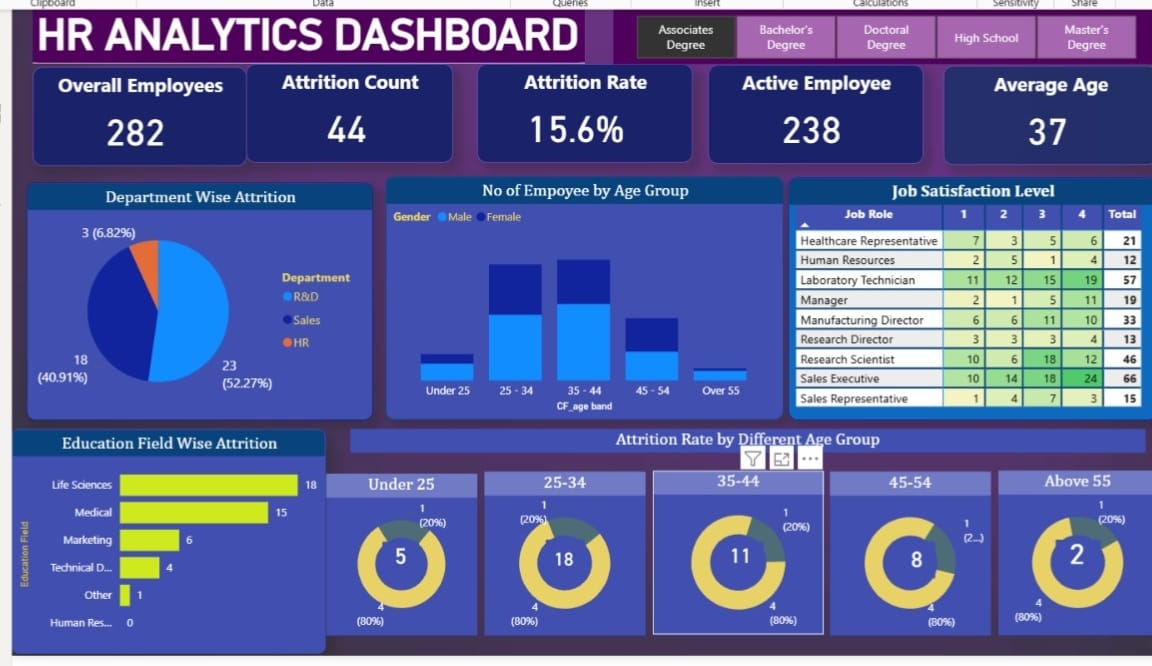

What the dashboard file says about the page in this screenshot:
{"tool":"powerbi","page":{"name":"Page 1","canvas":[1280,720],"ordinal":0},"visuals":[{"type":"advanceCardE03760C5AB684758B56AA29F9E6C257B","title":"Overall Employees","fields":{"mainMeasure":["Sum(HR data.Employee Count)"]},"box":[23.1,63.9,239.2,110.1],"z":0},{"type":"advanceCardE03760C5AB684758B56AA29F9E6C257B","title":"Attrition Count","fields":{"mainMeasure":["Sum(HR data.Attrition Count)"]},"box":[261.6,60.5,231.4,110.5],"z":1000},{"type":"advanceCardE03760C5AB684758B56AA29F9E6C257B","title":"Attrition Rate","fields":{"tooltipMeasures":["HR data.Attrition Rate"],"mainMeasure":["HR data.Attrition Rate"]},"box":[519.8,60.5,240.7,110.5],"z":2000},{"type":"advanceCardE03760C5AB684758B56AA29F9E6C257B","title":"Active Employee","fields":{"mainMeasure":["HR data.Active Empployees"]},"box":[777.9,61.6,240.7,110.5],"z":3000},{"type":"advanceCardE03760C5AB684758B56AA29F9E6C257B","title":"Average Age","fields":{"mainMeasure":["Avg(HR data.Age)"]},"box":[1040.7,62.8,239.5,110.5],"z":4000},{"type":"pieChart","title":"Department Wise Attrition ","fields":{"Category":["HR data.Department"],"Y":["Sum(HR data.Attrition Count)"]},"box":[16.2,192.5,387.5,265],"z":5000},{"type":"columnChart","title":" No of Empoyee by Age Group","fields":{"Category":["HR data.CF_age band"],"Y":["Sum(HR data.Employee Count)"],"Series":["HR data.Gender"]},"box":[417.5,186.2,445,271.2],"z":6000},{"type":"pivotTable","title":"Job Satisfaction Level","fields":{"Rows":["HR data.Job Role"],"Columns":["HR data.Job Satisfaction"],"Values":["Sum(HR data.Employee Count)"]},"box":[867.5,187.5,412.5,270],"z":7000},{"type":"barChart","title":"Education Field Wise Attrition","fields":{"Category":["HR data.Education Field"],"Y":["Sum(HR data.Attrition Count)"]},"box":[0,467.5,350.6,250.1],"z":8000},{"type":"textbox","title":"Attrition Rate by Different Age Group","box":[377.5,467.5,888.8,26.2],"z":9000},{"type":"donutChart","title":"Under 25","fields":{"Category":["HR data.Gender"],"Y":["Sum(HR data.Attrition Count)"],"Series":["HR data.CF_age band"]},"box":[350.6,517,168.6,179.8],"z":10000},{"type":"donutChart","title":"25-34","fields":{"Category":["HR data.Gender"],"Y":["Sum(HR data.Attrition Count)"],"Series":["HR data.CF_age band"]},"box":[528.2,514.8,179.8,182],"z":11000},{"type":"donutChart","title":"35-44","fields":{"Category":["HR data.Gender"],"Y":["Sum(HR data.Attrition Count)"],"Series":["HR data.CF_age band"]},"box":[715.8,513.7,190.9,183.1],"z":12000},{"type":"donutChart","title":"45-54","fields":{"Category":["HR data.Gender"],"Y":["Sum(HR data.Attrition Count)"],"Series":["HR data.CF_age band"]},"box":[914.5,514.8,179.8,182],"z":13000},{"type":"donutChart","title":"Above 55","fields":{"Category":["HR data.Gender"],"Y":["Sum(HR data.Attrition Count)"],"Series":["HR data.CF_age band"]},"box":[1102.1,513.7,177.5,183.1],"z":14000},{"type":"advanceCardE03760C5AB684758B56AA29F9E6C257B","fields":{"mainMeasure":["Sum(HR data.Attrition Count)"]},"box":[414.5,592.6,40.8,31.3],"z":15000},{"type":"advanceCardE03760C5AB684758B56AA29F9E6C257B","fields":{"mainMeasure":["Sum(HR data.Attrition Count)"]},"box":[990.8,592.6,40.8,40.8],"z":16000},{"type":"advanceCardE03760C5AB684758B56AA29F9E6C257B","fields":{"mainMeasure":["Sum(HR data.Attrition Count)"]},"box":[789.3,592.9,50.7,31.4],"z":17000},{"type":"advanceCardE03760C5AB684758B56AA29F9E6C257B","fields":{"mainMeasure":["Sum(HR data.Attrition Count)"]},"box":[596.6,591.2,43.5,42.1],"z":18000},{"type":"advanceCardE03760C5AB684758B56AA29F9E6C257B","fields":{"mainMeasure":["Sum(HR data.Attrition Count)"]},"box":[1166.1,591.2,50.3,32.6],"z":19000},{"type":"textbox","title":"HR ANALYTICS DASHBOARD","box":[23.1,0,617,59.8],"z":20000},{"type":"slicer","fields":{"Values":["HR data.Education"]},"box":[672.2,0,607.8,61.1],"z":21000}]}

Visuals, with their boxes on the page's 1280x720 design canvas (x1, y1, x2, y2). These are canvas units, not pixel positions in the 1152x666 screenshot, which may show the page scaled, cropped or inside an application window:
"Overall Employees" advanceCardE03760C5AB684758B56AA29F9E6C257B: region(23, 64, 262, 174)
"Attrition Count" advanceCardE03760C5AB684758B56AA29F9E6C257B: region(262, 60, 493, 171)
"Attrition Rate" advanceCardE03760C5AB684758B56AA29F9E6C257B: region(520, 60, 760, 171)
"Active Employee" advanceCardE03760C5AB684758B56AA29F9E6C257B: region(778, 62, 1019, 172)
"Average Age" advanceCardE03760C5AB684758B56AA29F9E6C257B: region(1041, 63, 1280, 173)
"Department Wise Attrition " pieChart: region(16, 192, 404, 458)
" No of Empoyee by Age Group" columnChart: region(418, 186, 862, 457)
"Job Satisfaction Level" pivotTable: region(868, 188, 1280, 458)
"Education Field Wise Attrition" barChart: region(0, 468, 351, 718)
"Attrition Rate by Different Age Group" textbox: region(378, 468, 1266, 494)
"Under 25" donutChart: region(351, 517, 519, 697)
"25-34" donutChart: region(528, 515, 708, 697)
"35-44" donutChart: region(716, 514, 907, 697)
"45-54" donutChart: region(914, 515, 1094, 697)
"Above 55" donutChart: region(1102, 514, 1280, 697)
advanceCardE03760C5AB684758B56AA29F9E6C257B - Sum(HR data.Attrition Count): region(414, 593, 455, 624)
advanceCardE03760C5AB684758B56AA29F9E6C257B - Sum(HR data.Attrition Count): region(991, 593, 1032, 633)
advanceCardE03760C5AB684758B56AA29F9E6C257B - Sum(HR data.Attrition Count): region(789, 593, 840, 624)
advanceCardE03760C5AB684758B56AA29F9E6C257B - Sum(HR data.Attrition Count): region(597, 591, 640, 633)
advanceCardE03760C5AB684758B56AA29F9E6C257B - Sum(HR data.Attrition Count): region(1166, 591, 1216, 624)
"HR ANALYTICS DASHBOARD" textbox: region(23, 0, 640, 60)
slicer - HR data.Education: region(672, 0, 1280, 61)
